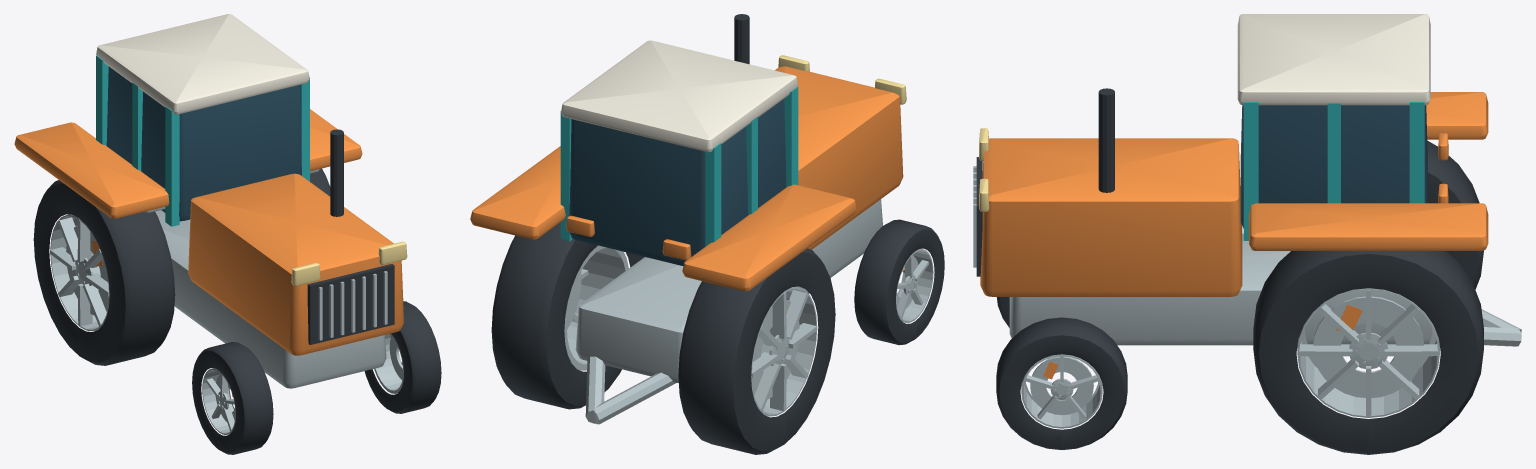
Rendered from tractor.glb.
3 views of the same model, side by side, from view 1: azimuth 30°, elevation 25°; view 2: azimuth 150°, elevation 25°; view 3: azimuth 270°, elevation 25° (orthographic). The views are drawn at different scales.
Visible parts, largest first — view 1: farm-tractor, wheel-rear-left (×2), wheel-front-left (×2), wheel-front-right (×2); view 2: farm-tractor, wheel-rear-left (×2), wheel-rear-right (×2), wheel-front-left (×2); view 3: farm-tractor, wheel-rear-right (×2), wheel-front-right (×2), wheel-rear-left.
Boxes of the visible parts, x1,y1,x2,y2 form: farm-tractor: (14,14,407,388); wheel-rear-left (×2): (33,180,175,365); wheel-front-left (×2): (192,342,273,454); wheel-front-right (×2): (364,301,441,413); farm-tractor: (470,14,906,424); wheel-rear-left (×2): (678,248,835,454); wheel-rear-right (×2): (491,222,644,409); wheel-front-left (×2): (854,219,944,345); farm-tractor: (973,14,1521,346); wheel-rear-right (×2): (1253,251,1483,454); wheel-front-right (×2): (996,317,1127,449); wheel-rear-left: (1427,140,1483,289).
Bounding box in the file's own units: 2.33 × 2.53 × 3.67.
